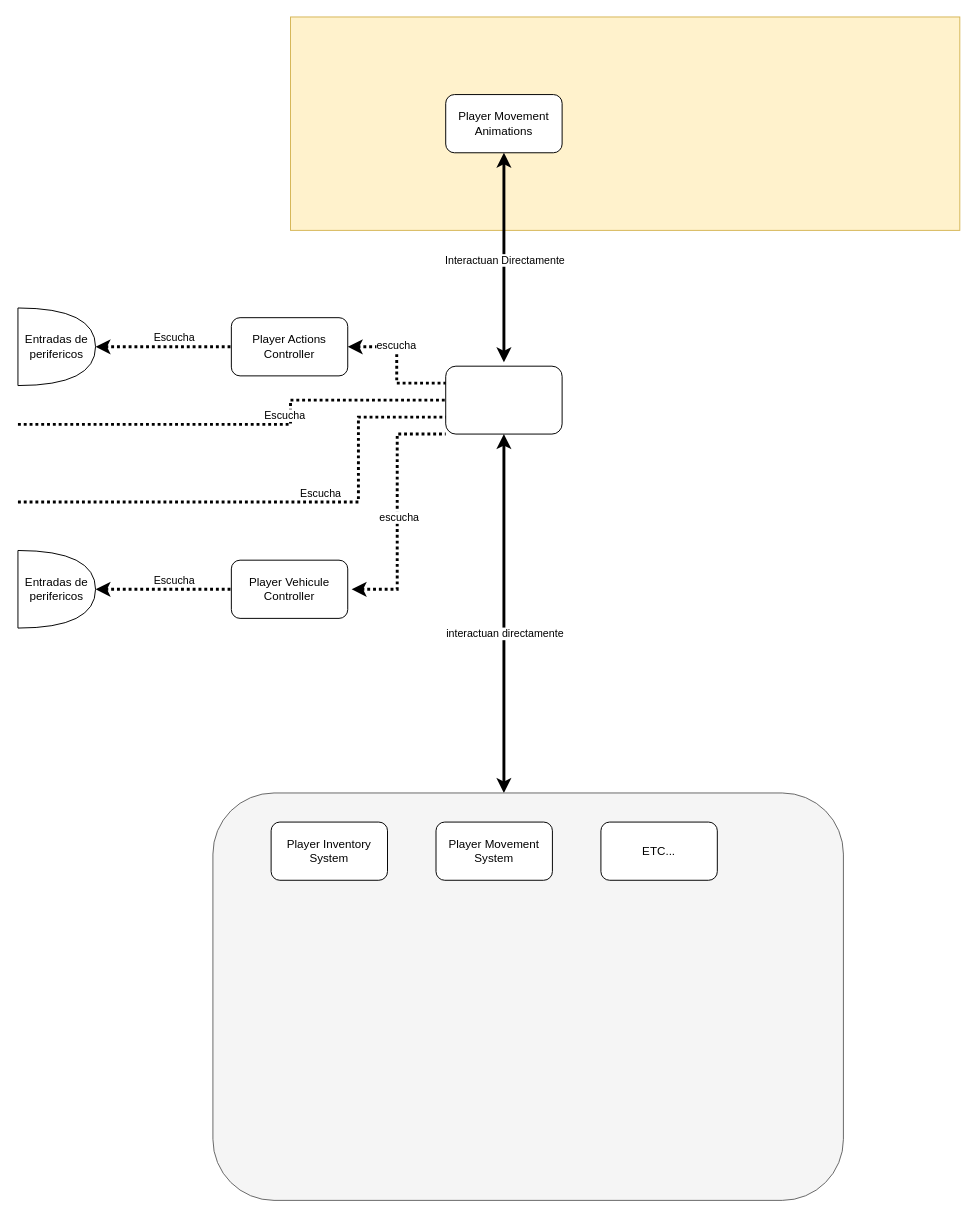
Some shapes in this 977 by 1217 pixel diagram are drawn without their labels. The shapes that lost their labels are listed below. From the top down, each one's box as (x1, y1, x2, y2) in pixels, then its label:
(290, 16, 960, 230): FRONTEND
(445, 365, 562, 434): Player Global Controller
(212, 792, 843, 1200): BACKEND
